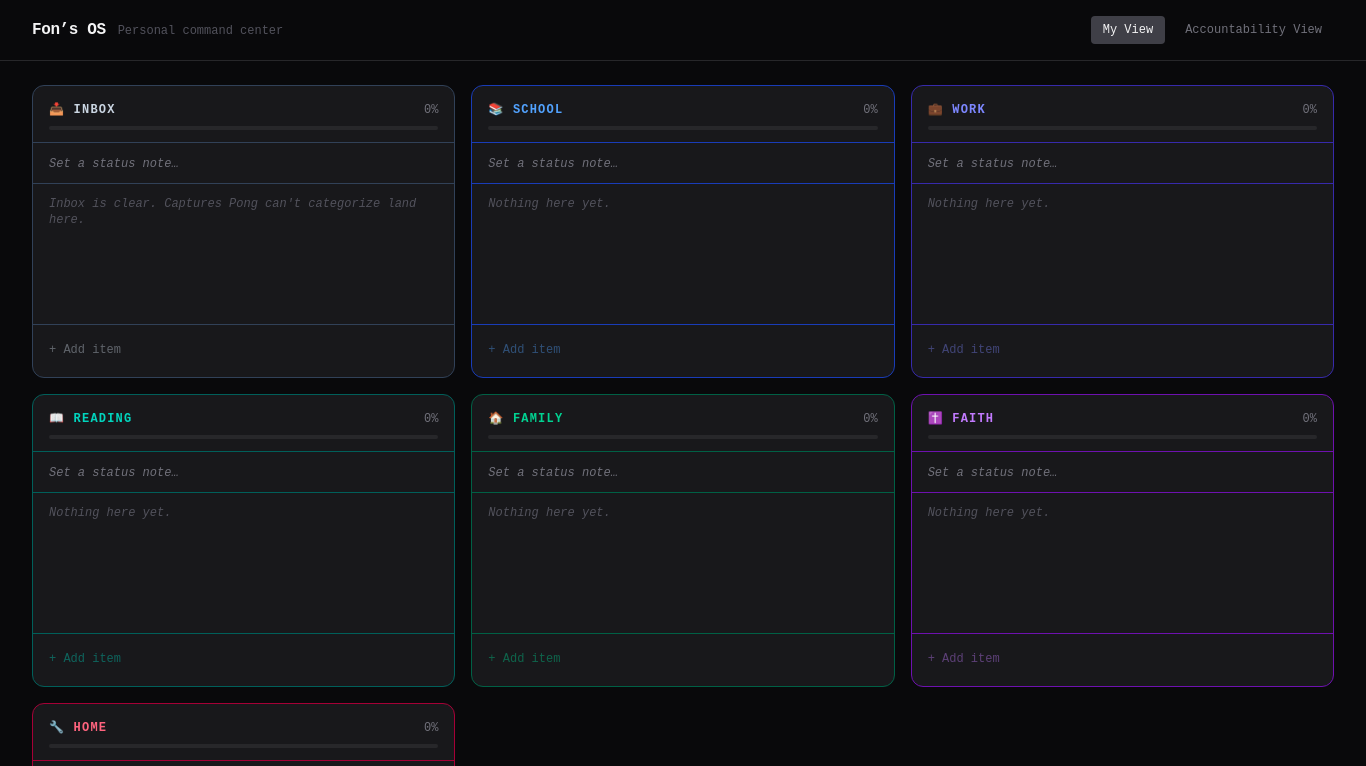
Test: My View › adds a task to the area whose card it was typed into
This screenshot has width=1366, height=766.
Click the button "+ Add item" below "Work".
click(964, 350)  # box x1=928 y1=342 x2=1000 y2=358
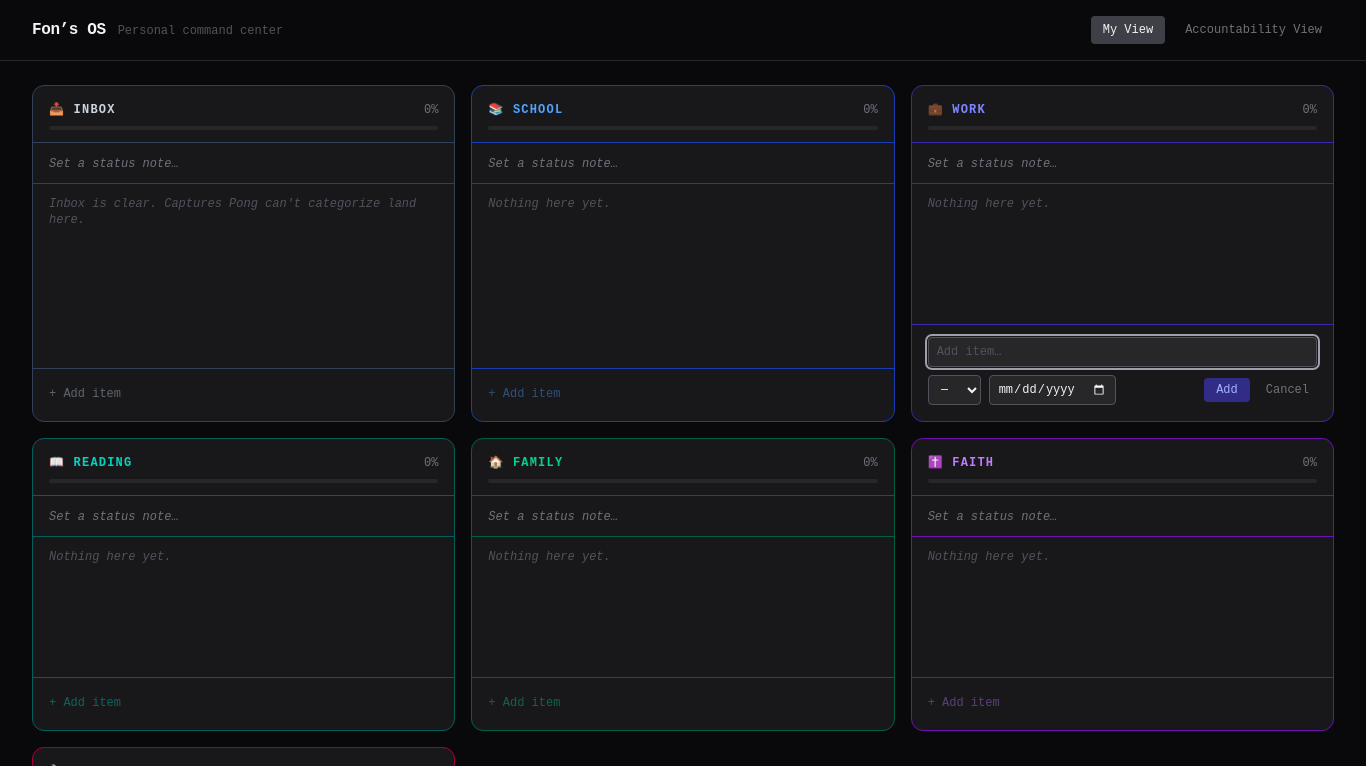
Type "Call AB re: scheduling" into the field named "new work task".
click(1122, 352); type("Call AB re: scheduling")  # box x1=928 y1=337 x2=1317 y2=367
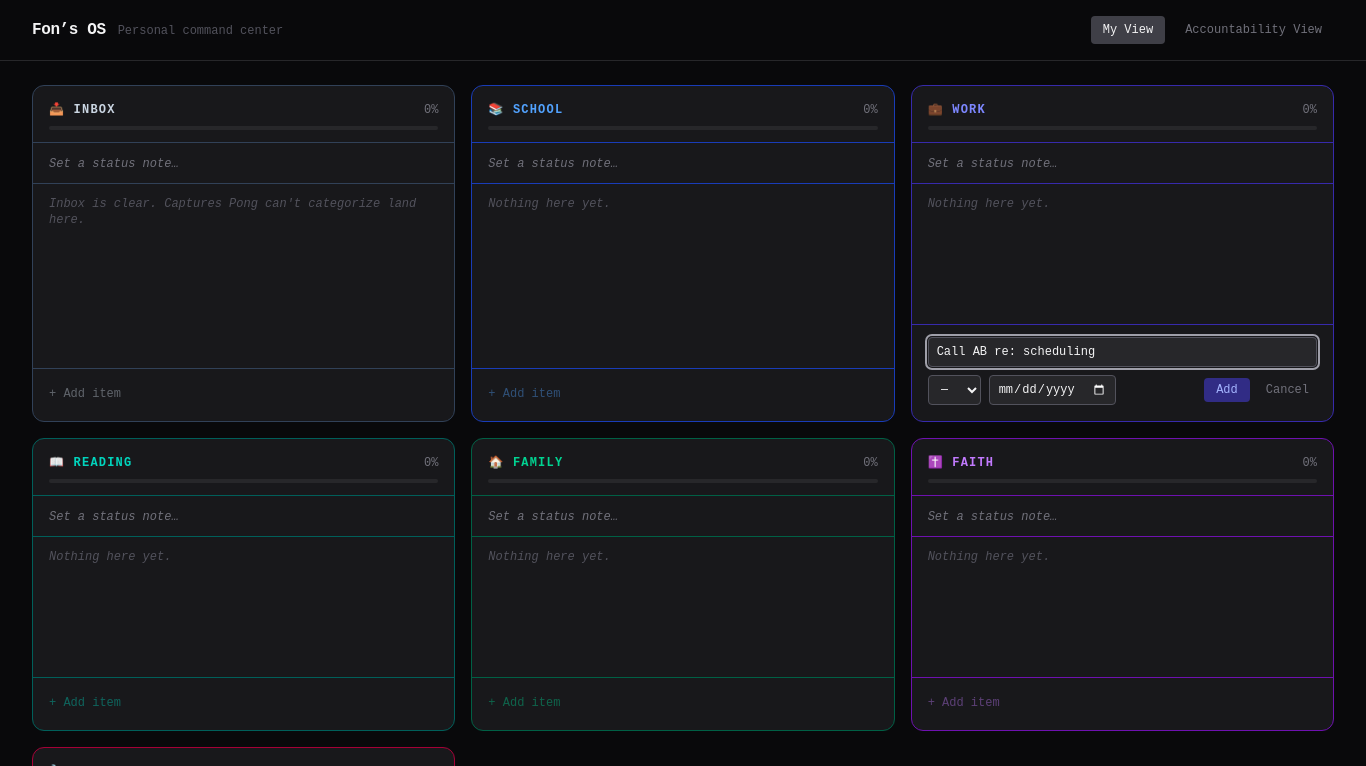
Click the button "Add".
click(1227, 390)  # box x1=1204 y1=378 x2=1250 y2=402
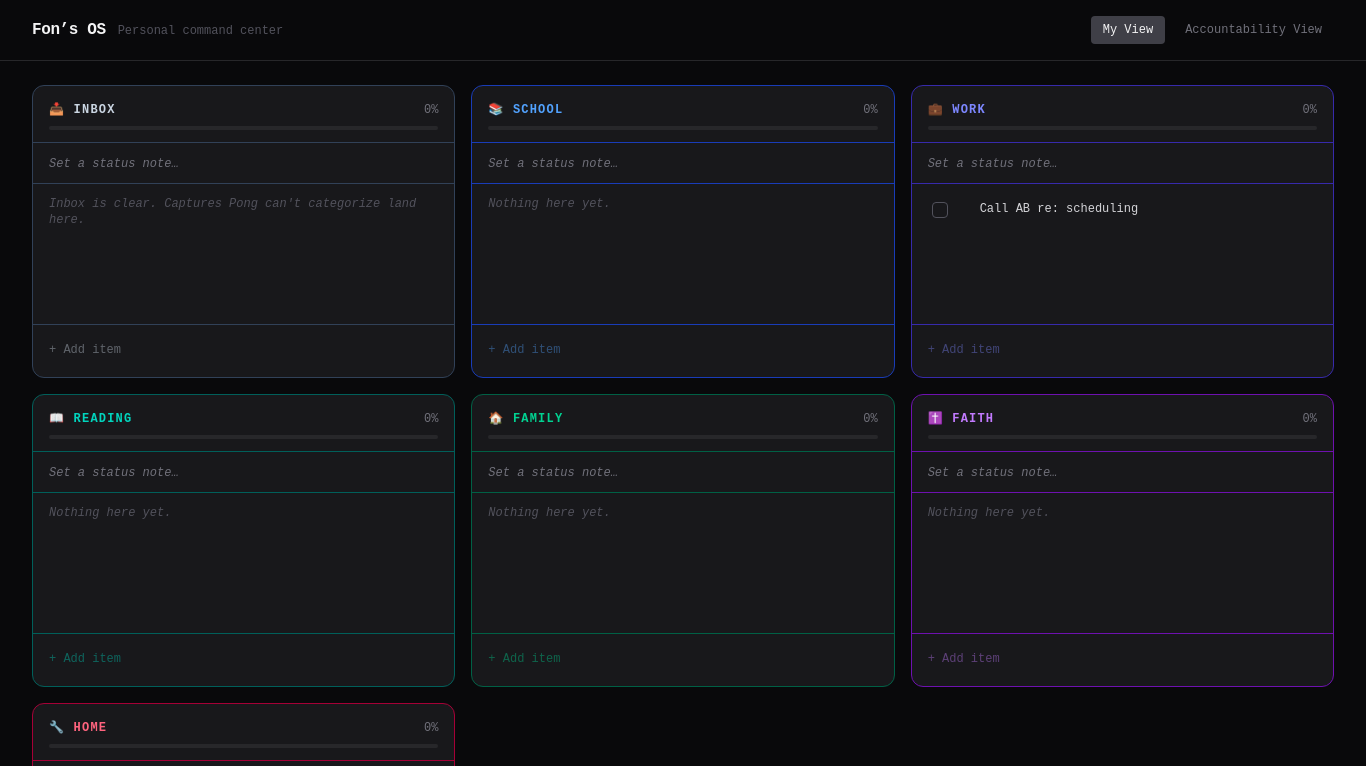
Check: the text "Call AB re: scheduling" is shown, box x1=980 y1=202 x2=1138 y2=216
